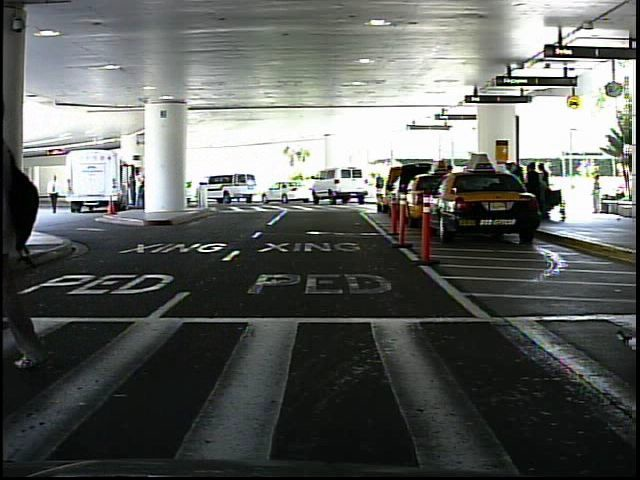person: (588, 172, 607, 218), (49, 172, 62, 215), (373, 172, 387, 199)
